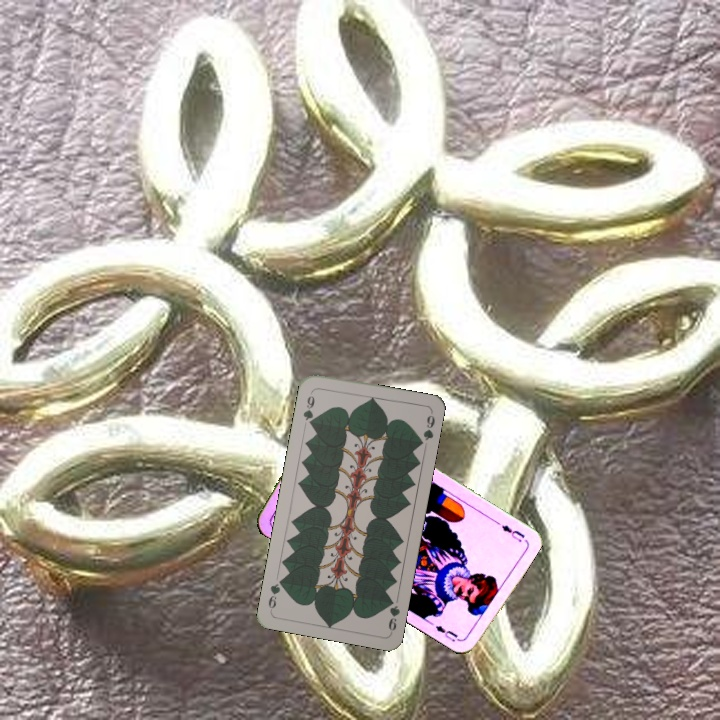EU: (497, 521, 527, 545)
G9: (299, 387, 317, 429), (384, 593, 402, 635)
